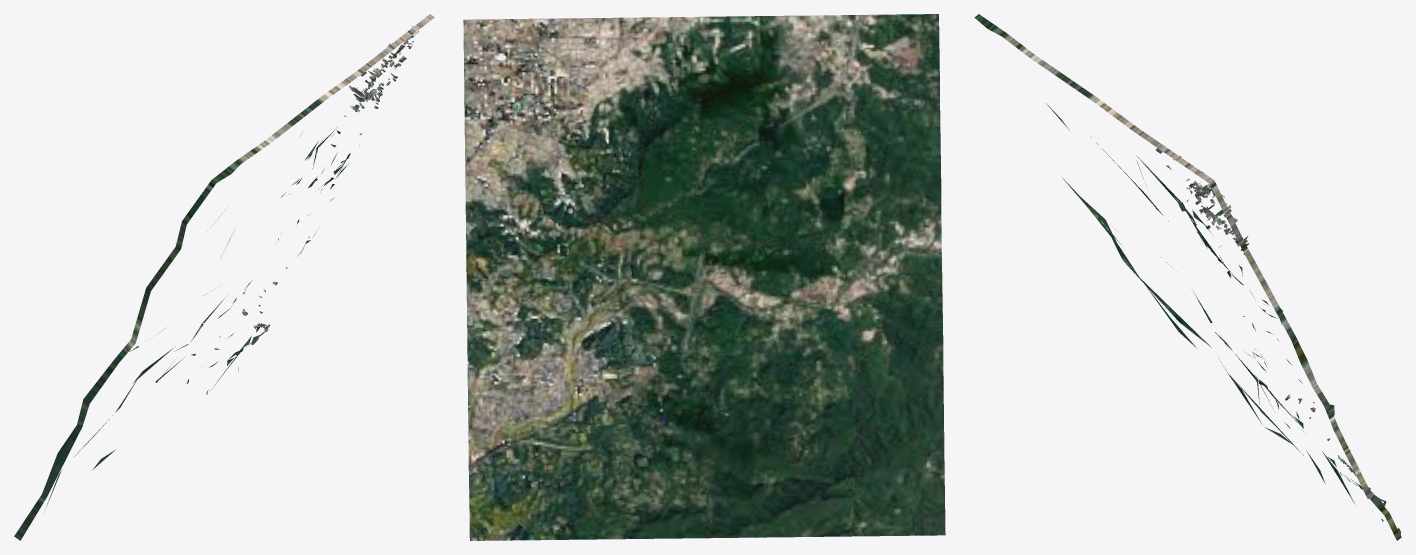
The picture shows the model from 3 angles, left to right: view 1: azimuth 30°, elevation 25°; view 2: azimuth 150°, elevation 25°; view 3: azimuth 270°, elevation 25°; orthographic projection. The views are drawn at different scales.
Bounding box in the file's own units: 9991 × 8849 × 8364.
1 material, 1 textured.
